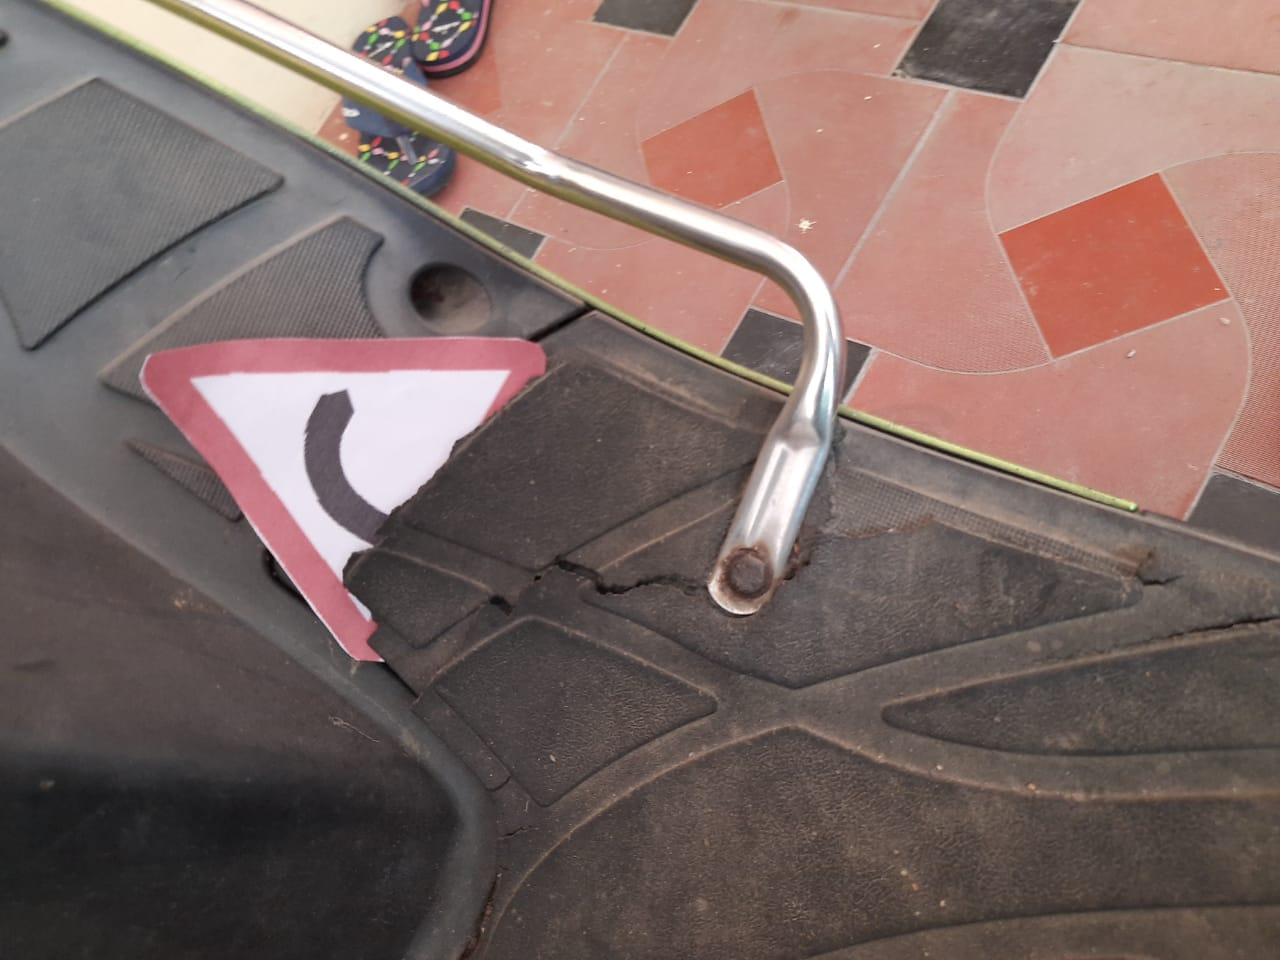RIGHT CURVE: (113, 308, 546, 673)
